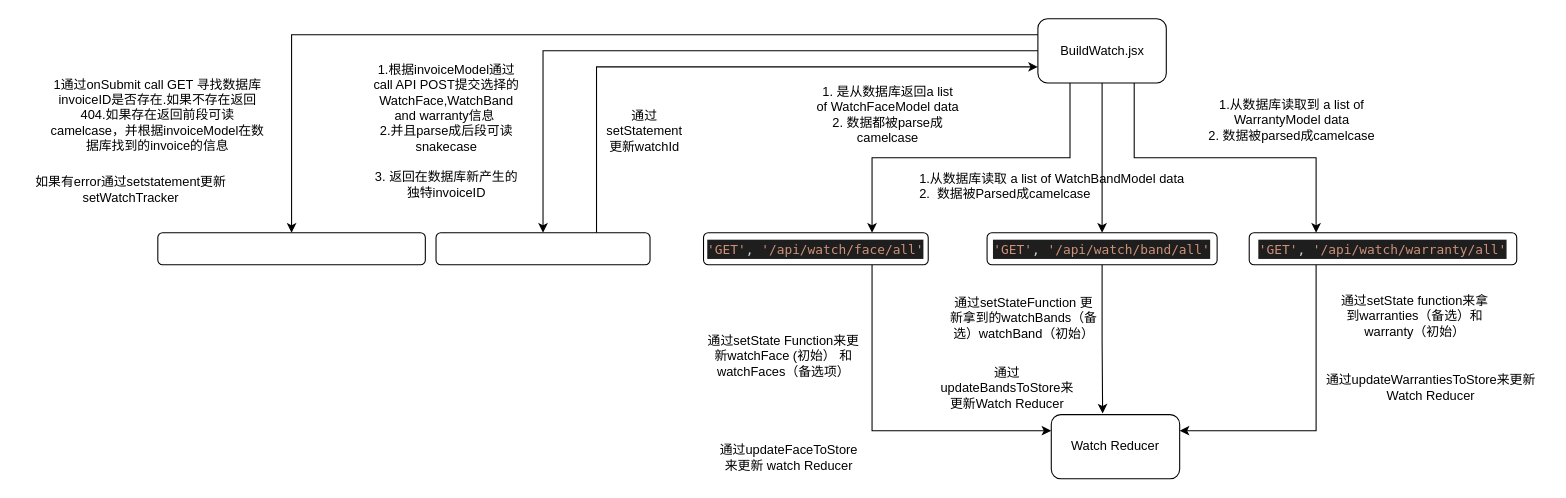
Image size: 1566x498. Some labels were removed from this diagram. Here are the shapes that lost their labels. From the top down, the centre of each, then its label:
At [291,248]: "'GET' , `/api/invoice/ ${ invoiceId } ` )".
At [542,248]: "'POST' , '/api/invoice/'".
